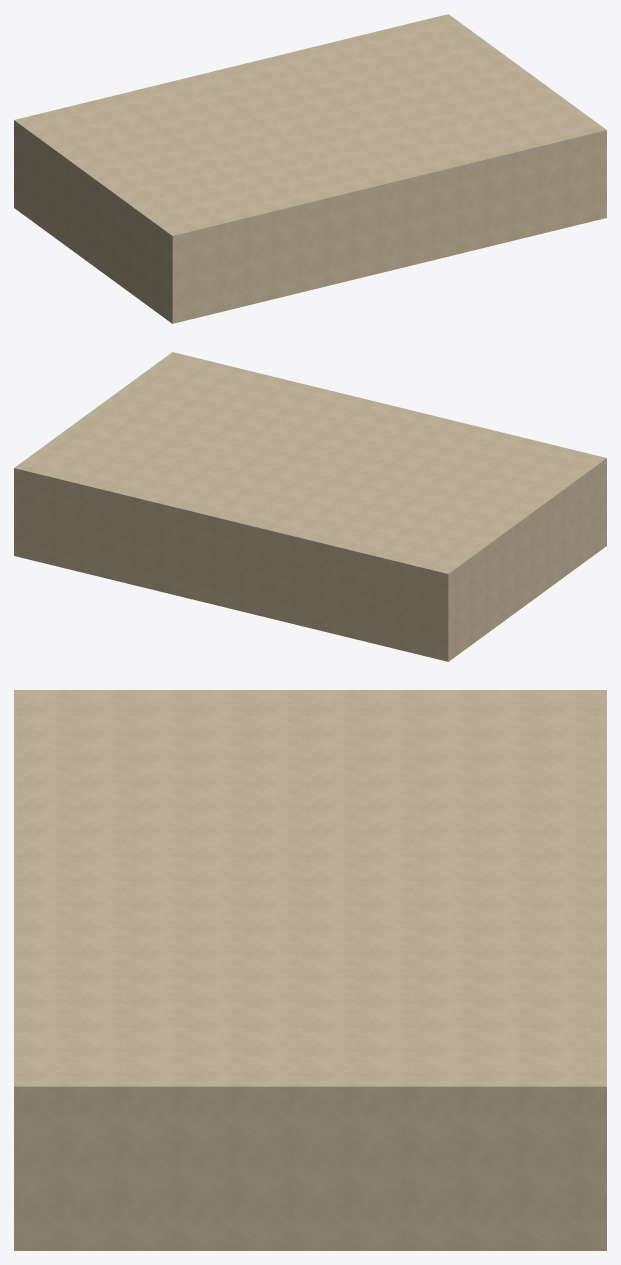
File: T_japanese_B.glb
3 renders of one model, top to bottom at view 1: azimuth 30°, elevation 25°; view 2: azimuth 150°, elevation 25°; view 3: azimuth 270°, elevation 25°, orthographic. The views are drawn at different scales.
Visible parts, largest first — view 1: Hall; view 2: Hall; view 3: Hall.
Part boxes in pixels (left/top/right/bottom): Hall: left=14, top=14, right=606, bottom=323; Hall: left=14, top=352, right=606, bottom=661; Hall: left=14, top=690, right=606, bottom=1250.
Bounding box in the file's own units: 32.6 × 6.3 × 20.6.
13 materials, 10 textured.
